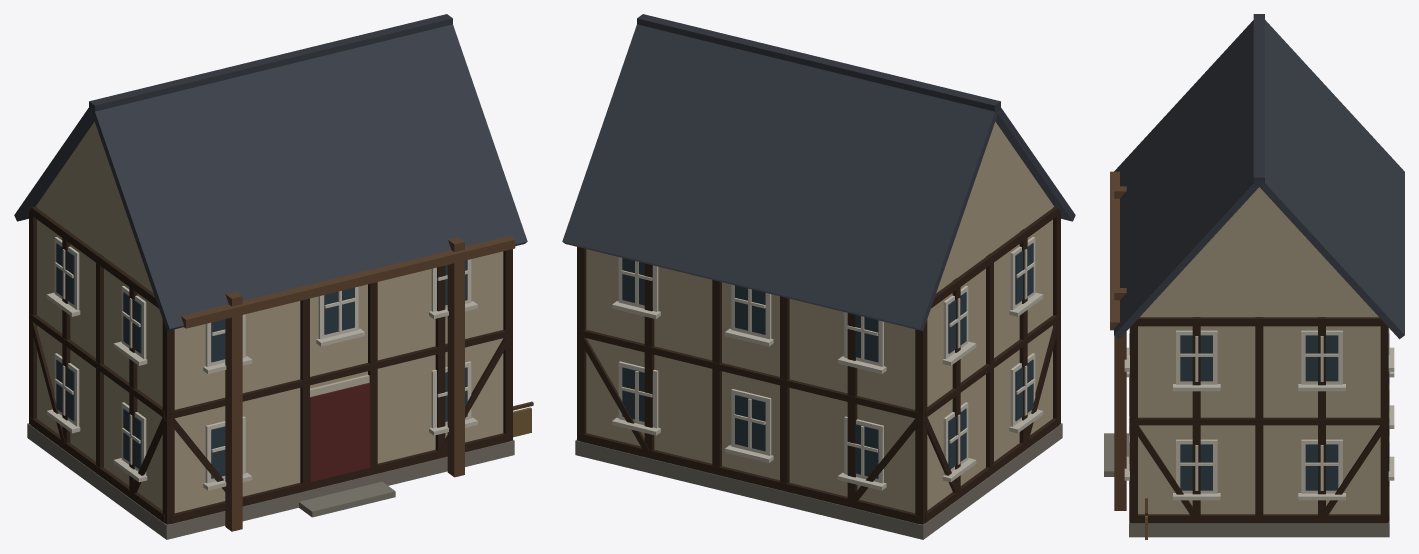
Rendered from procedural_library@3.glb.
3 views of the same model, side by side, from view 1: azimuth 30°, elevation 25°; view 2: azimuth 150°, elevation 25°; view 3: azimuth 270°, elevation 25° (orthographic). The views are drawn at different scales.
Parts seen in each view (by area): view 1: part_0; view 2: part_0; view 3: part_0.
Part boxes in pixels (left/top/right/bottom): part_0: left=14, top=14, right=533, bottom=539; part_0: left=562, top=14, right=1075, bottom=539; part_0: left=1104, top=14, right=1404, bottom=539.
Size of the model in its own units: 8.21 by 7.97 by 6.
